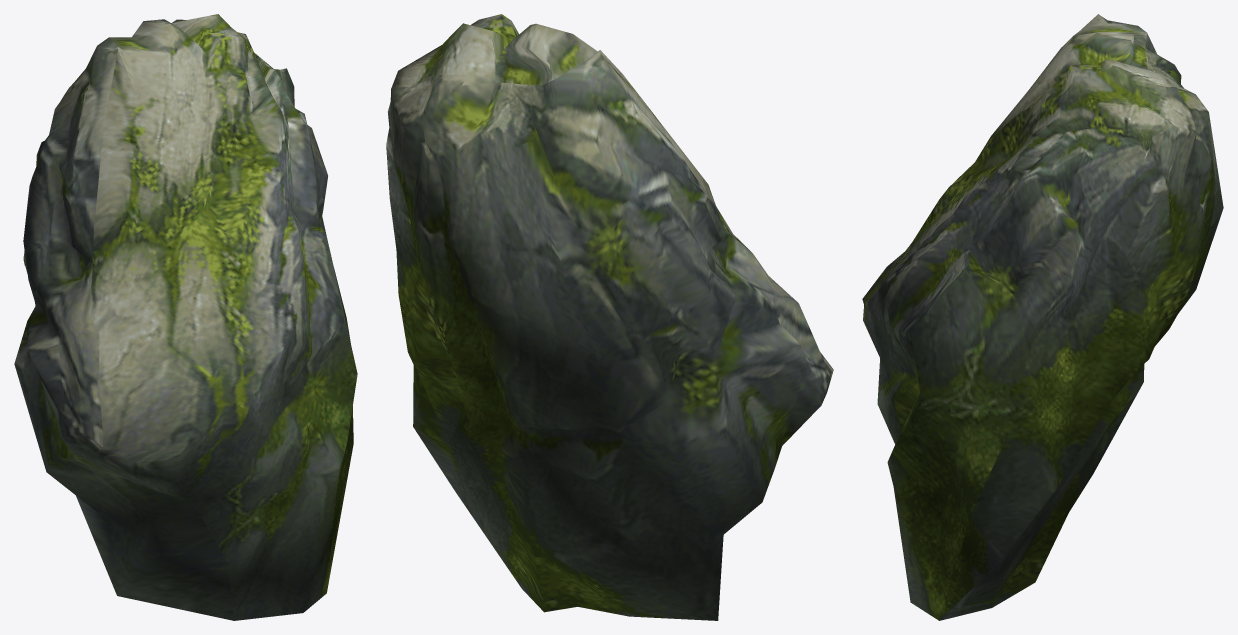
Rendered from xl_shitou_13.FBX.
3 views of the same model, side by side, from view 1: azimuth 30°, elevation 25°; view 2: azimuth 150°, elevation 25°; view 3: azimuth 270°, elevation 25° (orthographic). The views are drawn at different scales.
Visible parts, largest first — view 1: xl_shitou_13; view 2: xl_shitou_13; view 3: xl_shitou_13.
Part boxes in pixels (x1,y1,x2,y2): xl_shitou_13: (14, 14, 357, 620); xl_shitou_13: (386, 14, 833, 620); xl_shitou_13: (862, 14, 1223, 620).
Size of the model in its own units: 3756 by 5967 by 3553.
